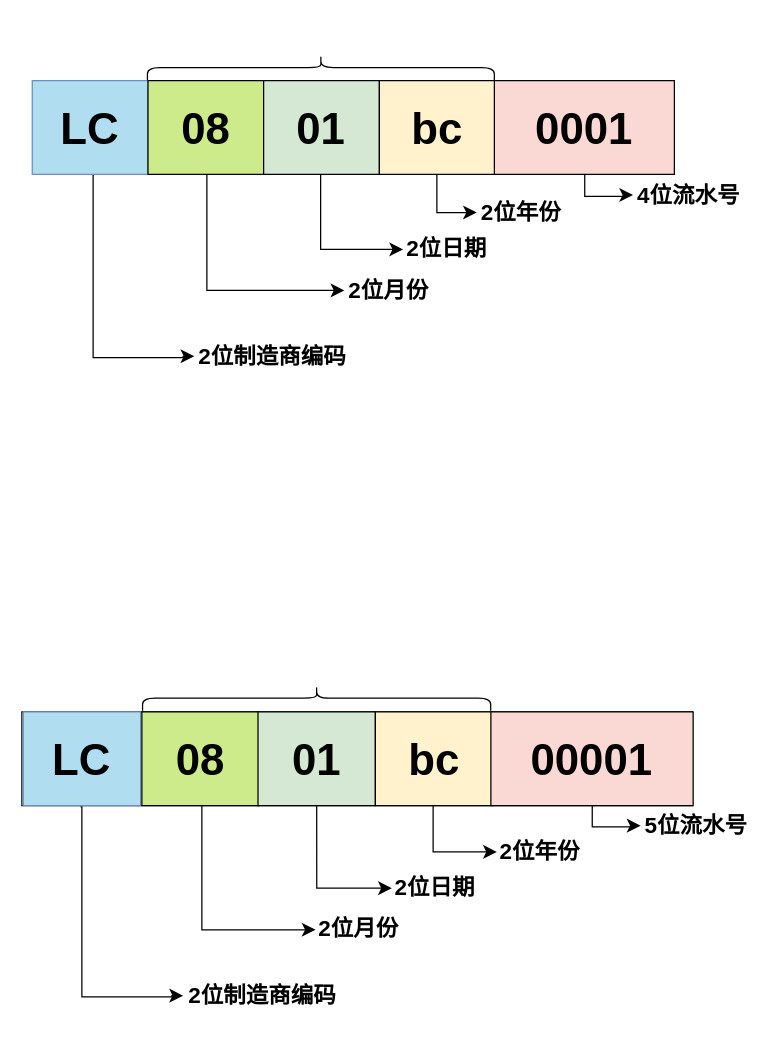
This 769x1043 diagram has some shape labels left out. The shapes that lost their labels are listed below. From the top down, each one's box as (x1, y1, x2, y2) in pixels, then its label:
(146, 54, 494, 80): 6位集合码生成日期
(141, 684, 491, 711): 6位QS码生成日期
